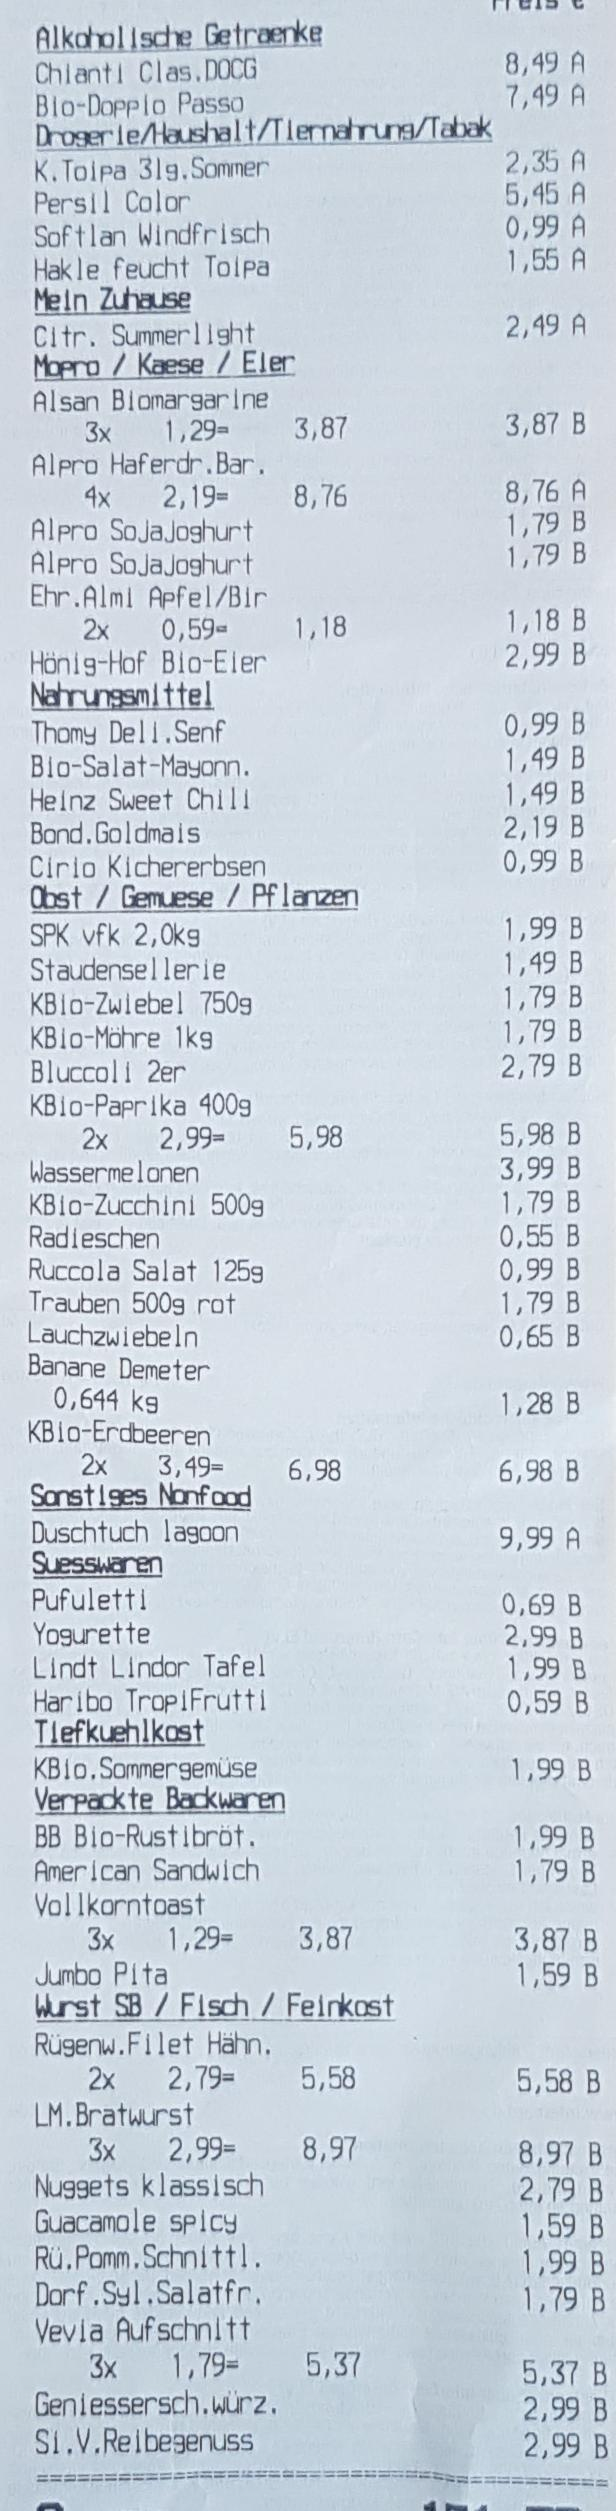Product: (30, 311, 266, 360), (30, 247, 282, 291), (34, 215, 277, 256), (29, 380, 274, 420), (26, 577, 270, 617), (18, 741, 258, 781), (29, 2421, 266, 2461), (26, 1187, 275, 1223), (21, 1251, 270, 1288), (22, 778, 258, 817), (30, 1816, 266, 1854), (29, 543, 261, 581), (34, 151, 274, 187), (30, 51, 259, 90), (29, 2277, 278, 2312), (29, 1851, 267, 1888), (26, 1513, 250, 1552), (27, 512, 258, 549), (19, 1284, 248, 1321), (22, 849, 270, 882), (26, 448, 272, 482), (30, 1683, 275, 1717), (29, 1750, 262, 1786), (22, 645, 277, 677), (29, 986, 258, 1022), (22, 1411, 214, 1452), (32, 2029, 280, 2061), (29, 1087, 261, 1121), (22, 713, 230, 749), (30, 2168, 269, 2200), (29, 2240, 267, 2272), (30, 86, 246, 122), (22, 1348, 211, 1388), (29, 2388, 282, 2417), (26, 951, 230, 986), (30, 1649, 272, 1678), (27, 2316, 258, 2344), (22, 1316, 202, 1353), (26, 918, 210, 953), (26, 1022, 222, 1054), (29, 1886, 216, 1918), (32, 2208, 250, 2236), (27, 1155, 202, 1188), (27, 817, 210, 849), (29, 2096, 195, 2128), (29, 1055, 192, 1087), (22, 1220, 162, 1257), (30, 191, 198, 218), (30, 1957, 168, 1989), (29, 1581, 152, 1614), (30, 1617, 154, 1648)
